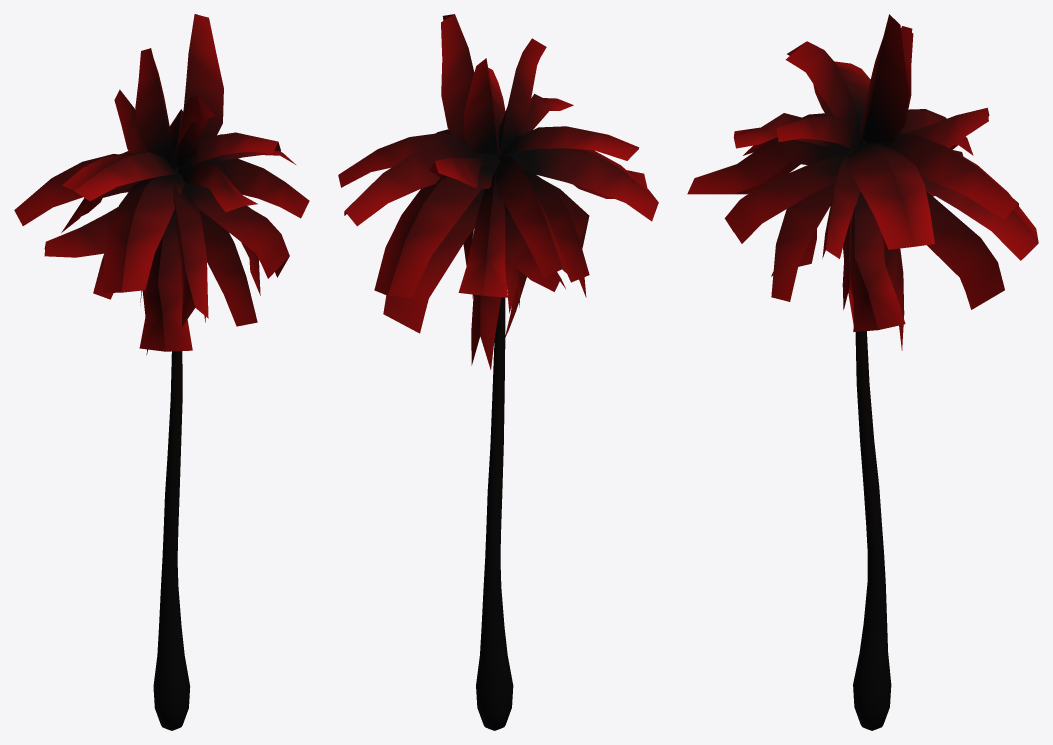
File: TAI_Palm_Tree_01A.fbx
3 renders of one model, left to right at view 1: azimuth 30°, elevation 25°; view 2: azimuth 150°, elevation 25°; view 3: azimuth 270°, elevation 25°, orthographic. The views are drawn at different scales.
Parts seen in each view (by area): view 1: TAI_Palm_Tree_01A_LOD0; view 2: TAI_Palm_Tree_01A_LOD0; view 3: TAI_Palm_Tree_01A_LOD0.
Part boxes in pixels (box(x1,y1,x2,y2)): TAI_Palm_Tree_01A_LOD0: box(14, 14, 309, 730); TAI_Palm_Tree_01A_LOD0: box(338, 14, 658, 730); TAI_Palm_Tree_01A_LOD0: box(687, 14, 1038, 730).
Size of what is drawn, in the model's own units: 719 by 1906 by 829.
